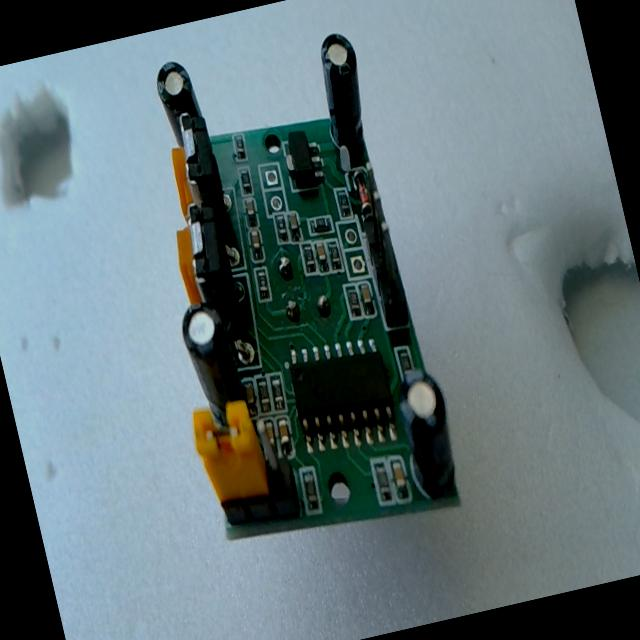Electrolytic capacitor: (388, 362, 466, 502), (309, 28, 377, 158), (144, 54, 213, 154)
IC: (287, 345, 399, 446)
diode: (176, 296, 250, 428)
pinheader: (352, 201, 412, 328)
